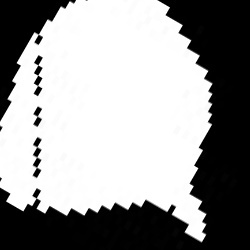spot: (2, 2, 213, 243)
